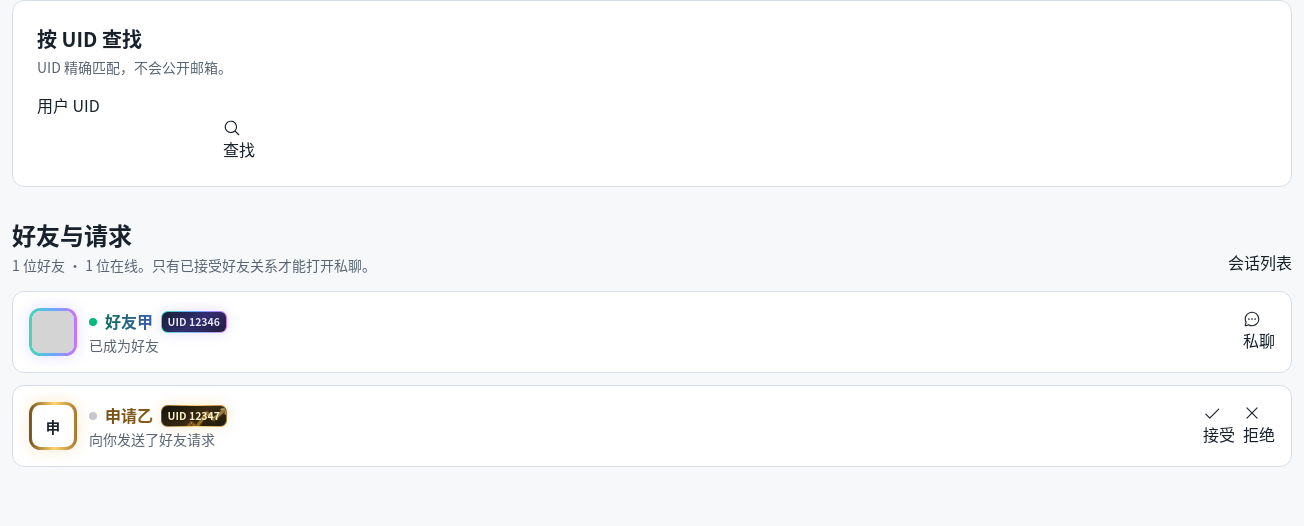
Scenario: does not submit an action for a stale displayed owner before its auth event arrives
Expected: the text "好友甲" is shown, 105,309 -> 153,333
Click the button "私聊": {"x": 1259, "y": 332} 1243,310 -> 1275,354
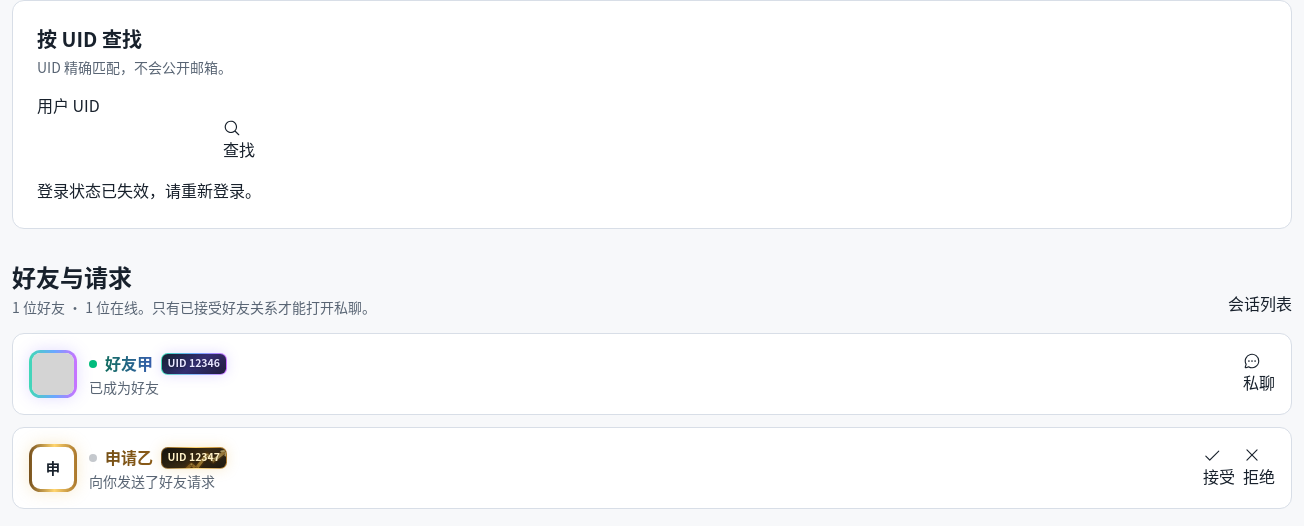
Expected: the text "登录状态已失效，请重新登录。" is shown, 37,178 -> 261,202
